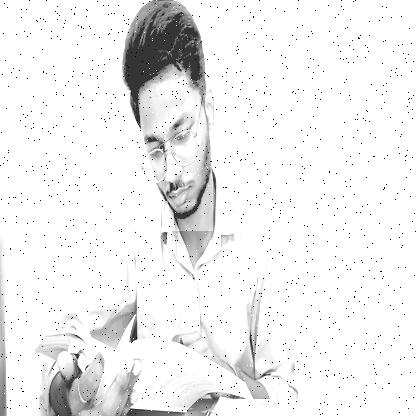Distracted: (121, 1, 213, 232)
